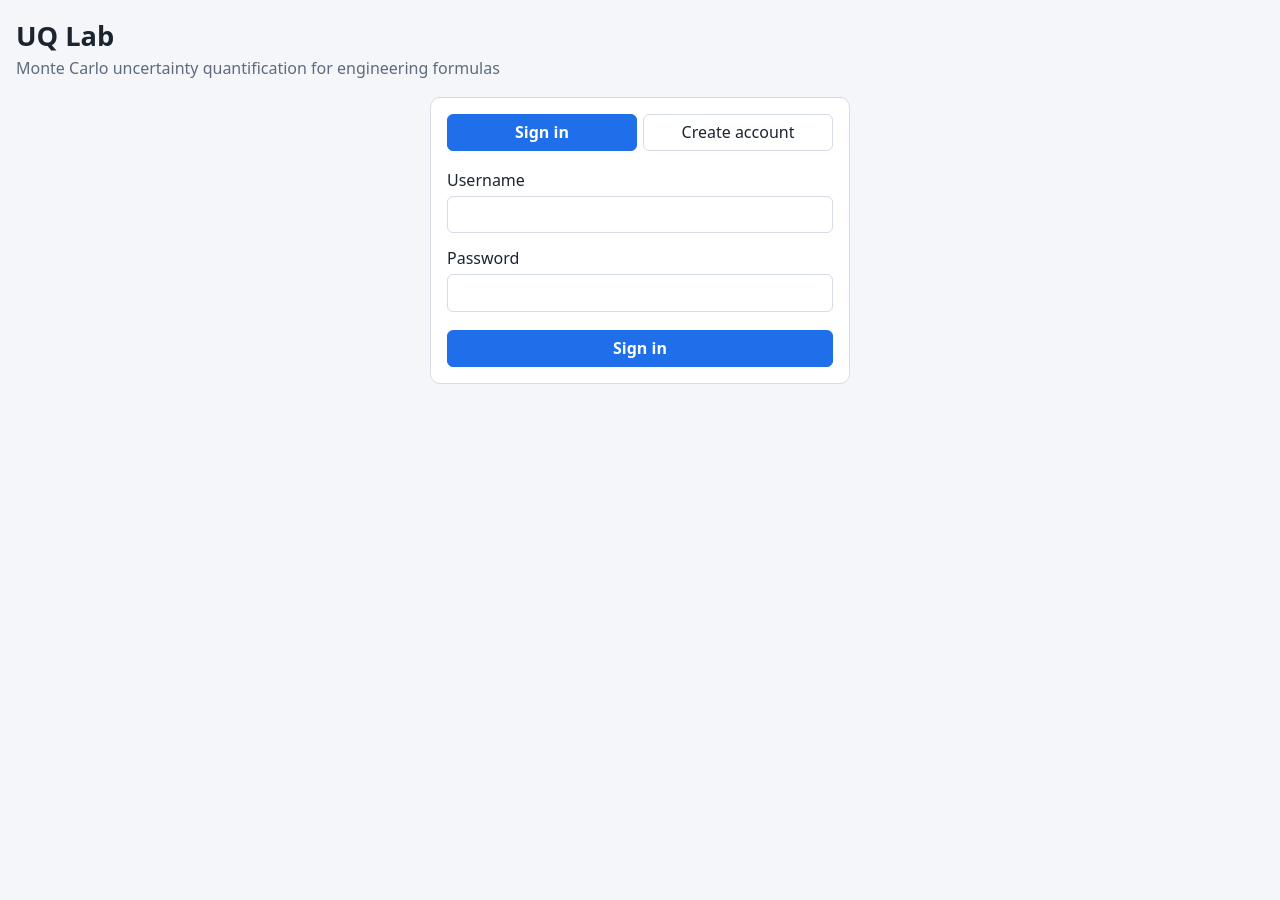
Test: sign in and out › creates an account and signs in at once
Click the tab "Create account": (738, 132) 643,114 -> 833,151
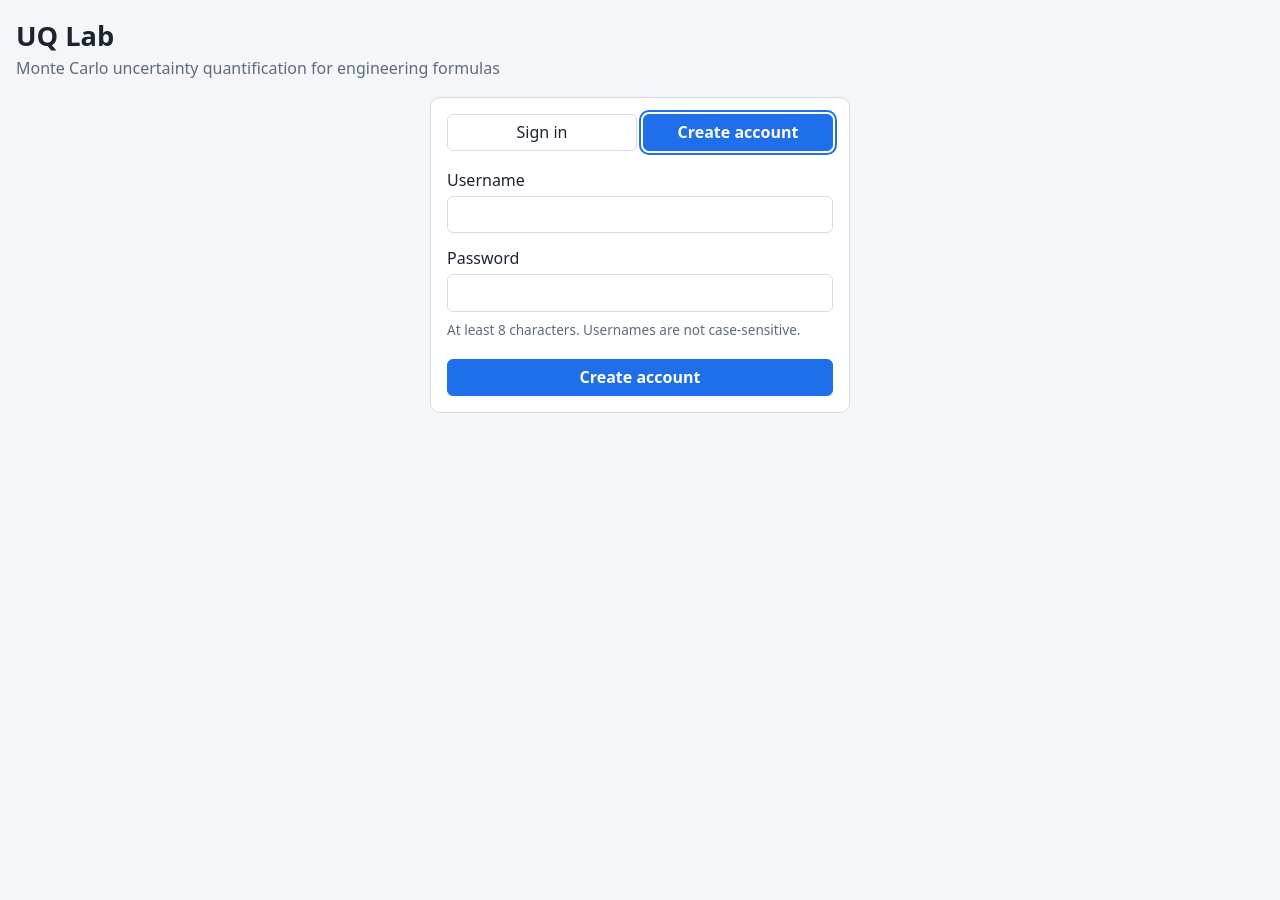
In the field labelled "Username": (640, 215) 447,196 -> 833,233, type "Newcomer"
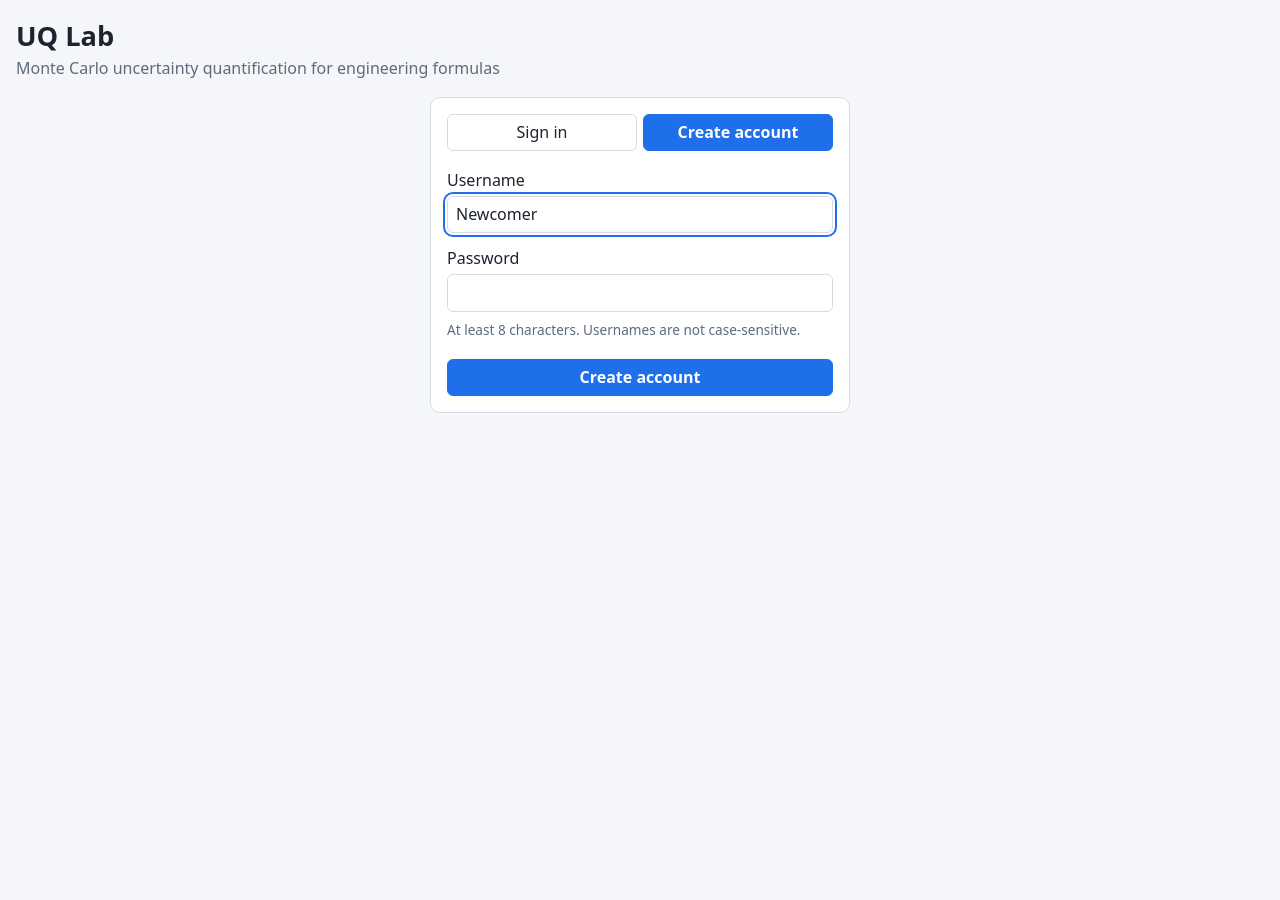
In the password field labelled "Password": (640, 293) 447,274 -> 833,312, type "goodpassword"
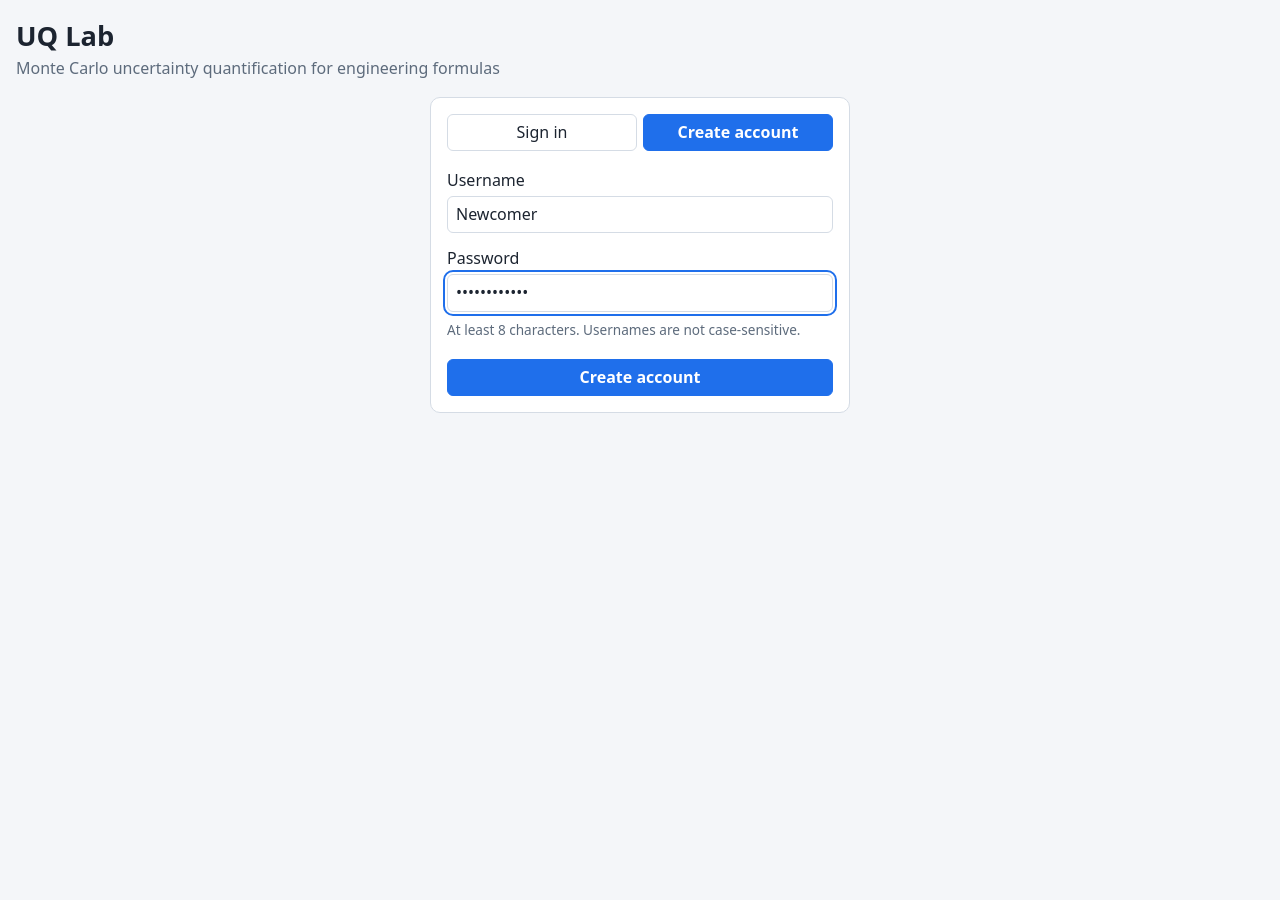
Click the submit button: (640, 378) 447,359 -> 833,396
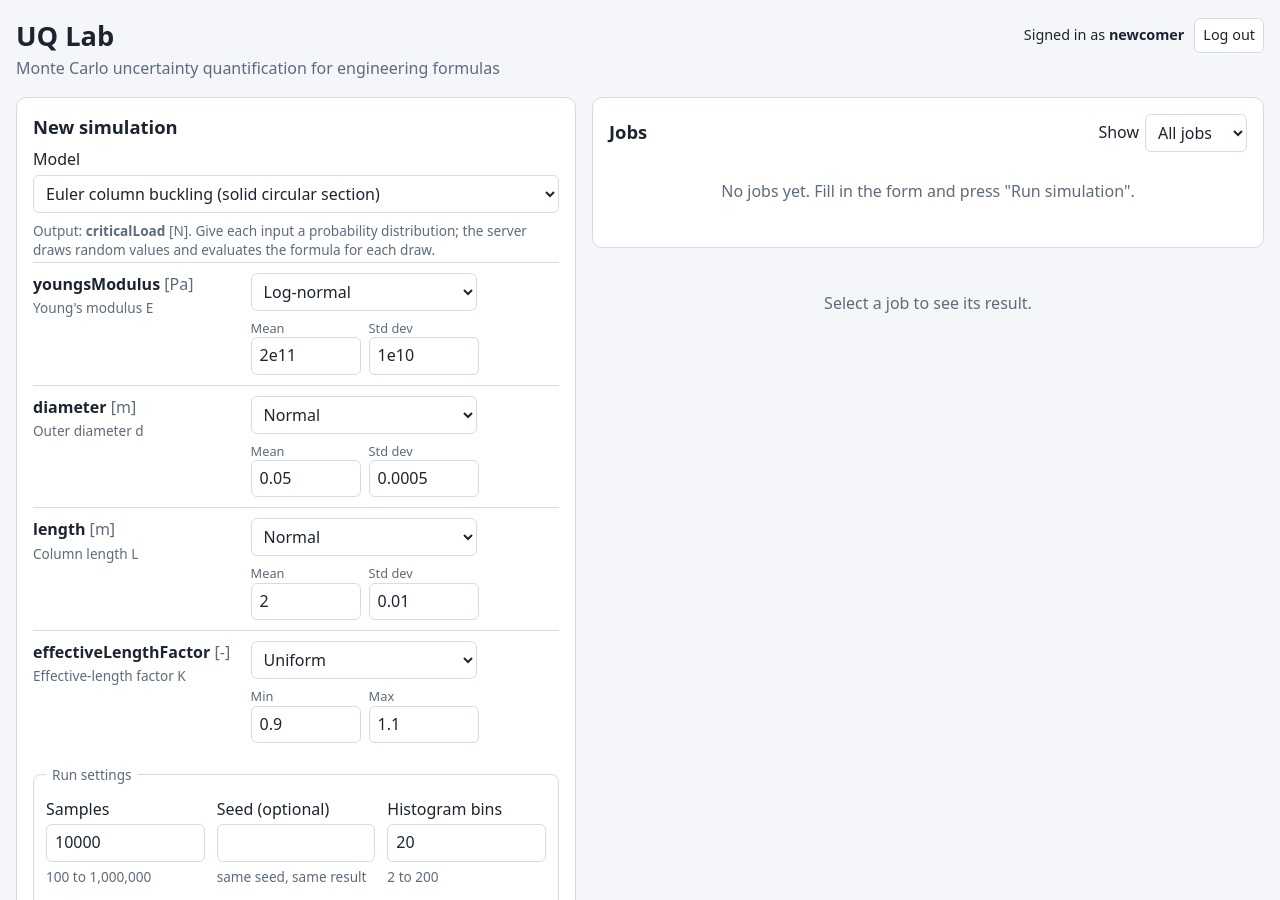
Expected: the heading "New simulation" is shown, 33,114 -> 178,139
Expected: the text "newcomer" is shown, 1109,25 -> 1184,44
